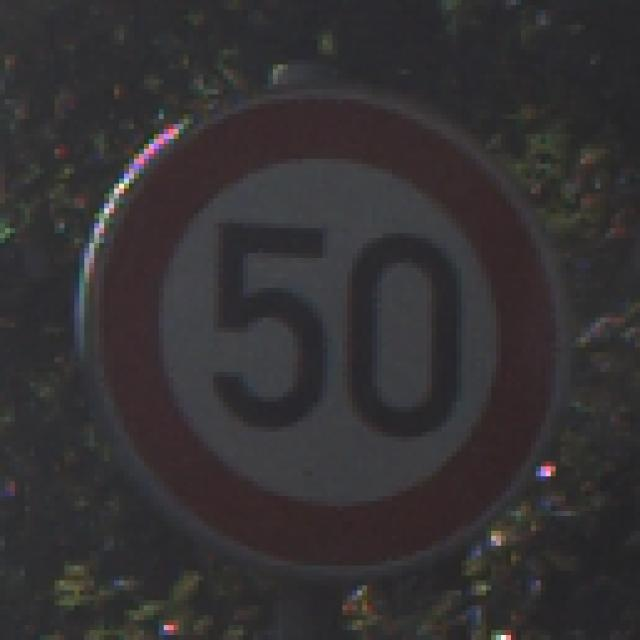speed limit 50: (66, 84, 569, 577)
